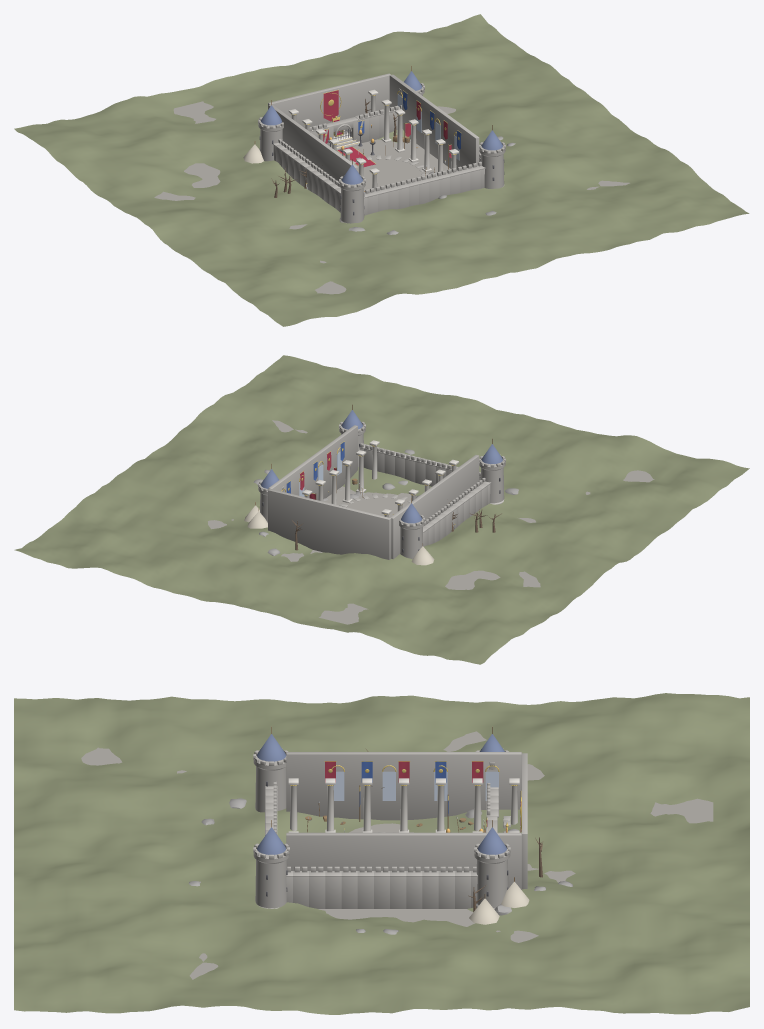
The model's file is scenes.glb.
3 views of the same model, one above another, from view 1: azimuth 30°, elevation 25°; view 2: azimuth 150°, elevation 25°; view 3: azimuth 270°, elevation 25° (orthographic). The views are drawn at different scales.
Parts seen in each view (by area): view 1: battle_ground, castle_walls, throne_hall, castle_ground, throne_seat, battle_props; view 2: battle_ground, throne_hall, castle_walls, castle_ground, battle_props; view 3: battle_ground, throne_hall, castle_walls, castle_ground, battle_props, throne_seat.
Boxes of the visible parts, bbox=[...] form: battle_ground: bbox=[14, 14, 749, 326]; castle_walls: bbox=[258, 65, 505, 223]; throne_hall: bbox=[268, 73, 479, 190]; castle_ground: bbox=[154, 101, 629, 294]; throne_seat: bbox=[323, 89, 461, 155]; battle_props: bbox=[243, 99, 451, 197]; battle_ground: bbox=[14, 355, 749, 664]; throne_hall: bbox=[268, 425, 479, 559]; castle_walls: bbox=[258, 404, 505, 558]; castle_ground: bbox=[208, 420, 654, 624]; battle_props: bbox=[244, 467, 501, 565]; battle_ground: bbox=[14, 693, 749, 1014]; throne_hall: bbox=[286, 752, 527, 889]; castle_walls: bbox=[253, 726, 510, 909]; castle_ground: bbox=[81, 731, 713, 979]; battle_props: bbox=[307, 748, 543, 924]; throne_seat: bbox=[324, 761, 521, 832].
Size of the model in its own units: 100 by 14.38 by 100.
